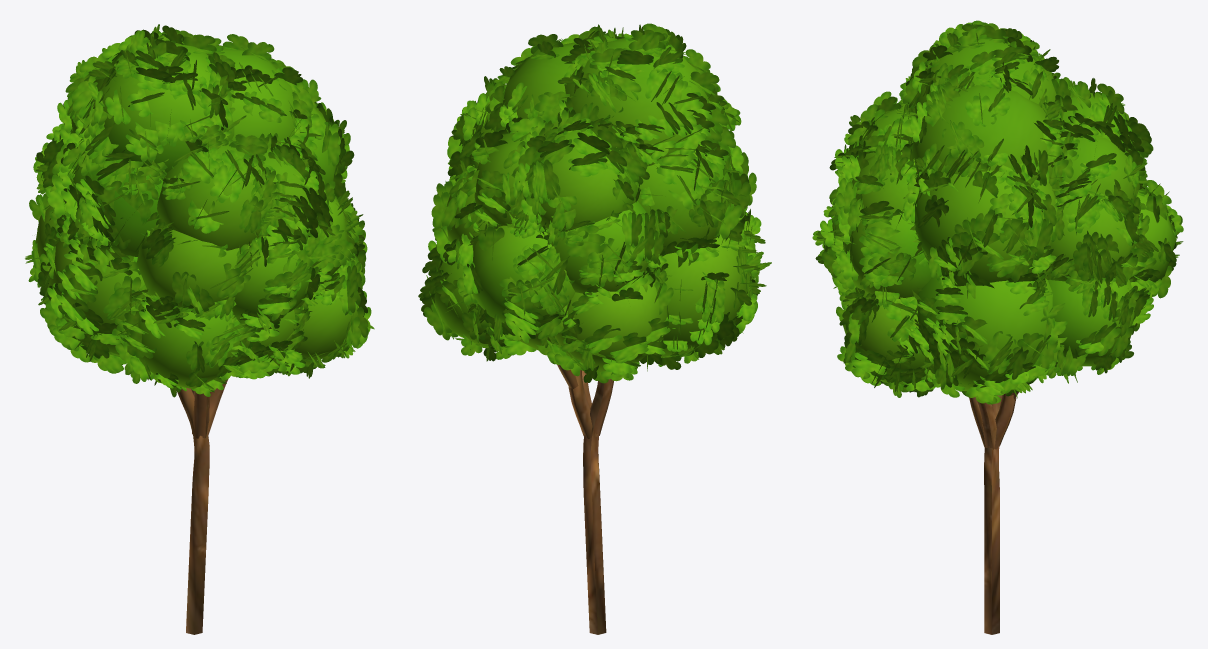
The model's file is TreeModel.obj.
3 views of the same model, side by side, from view 1: azimuth 30°, elevation 25°; view 2: azimuth 150°, elevation 25°; view 3: azimuth 270°, elevation 25° (orthographic). The views are drawn at different scales.
Visible parts, largest first — view 1: Tree_LeafCards, Tree_CanopyCore, Tree_Bark; view 2: Tree_LeafCards, Tree_CanopyCore, Tree_Bark; view 3: Tree_LeafCards, Tree_CanopyCore, Tree_Bark.
Boxes of the visible parts, x1=… form: Tree_LeafCards: x1=25, y1=24, x2=374, y2=397; Tree_CanopyCore: x1=34, y1=40, x2=357, y2=389; Tree_Bark: x1=176, y1=379, x2=228, y2=634; Tree_LeafCards: x1=418, y1=23, x2=771, y2=383; Tree_CanopyCore: x1=433, y1=38, x2=757, y2=371; Tree_Bark: x1=557, y1=364, x2=613, y2=634; Tree_LeafCards: x1=812, y1=20, x2=1183, y2=404; Tree_CanopyCore: x1=825, y1=39, x2=1175, y2=390; Tree_Bark: x1=969, y1=391, x2=1018, y2=634.
Bounding box in the file's own units: 4.4 × 8 × 4.75.
3 materials, 3 textured.
